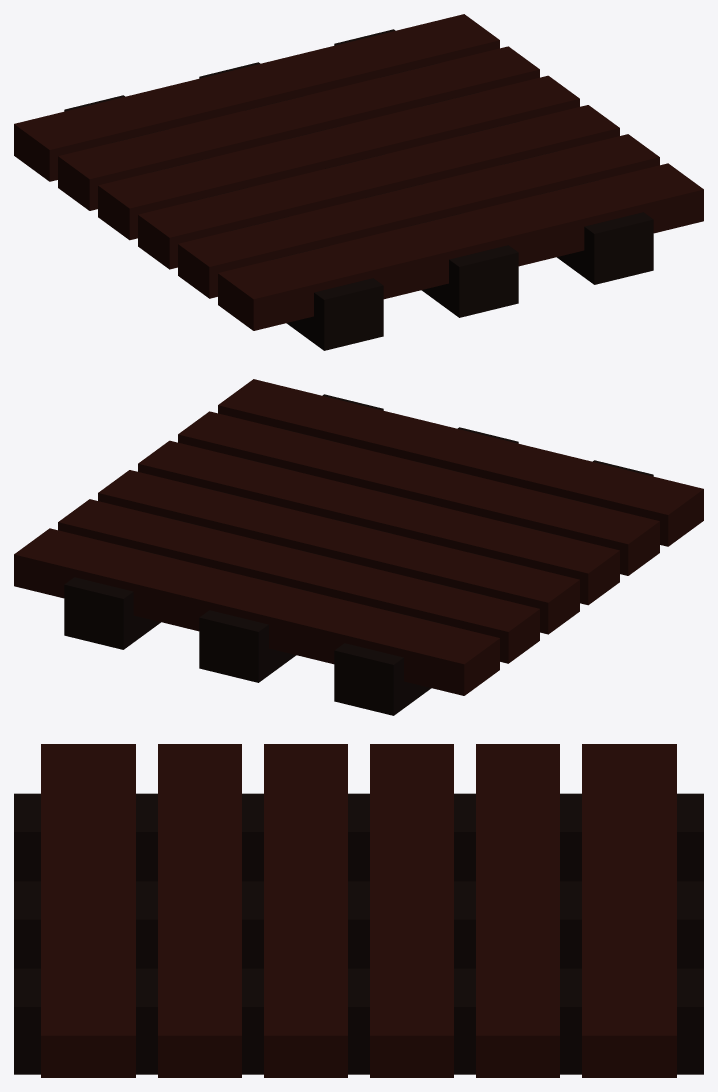
File: plataforma_pequeña.fbx
3 views of the same model, one above another, from view 1: azimuth 30°, elevation 25°; view 2: azimuth 150°, elevation 25°; view 3: azimuth 270°, elevation 25° (orthographic). The views are drawn at different scales.
Visible parts, largest first — view 1: plataforma_pequeña; view 2: plataforma_pequeña; view 3: plataforma_pequeña.
Part boxes in pixels (x1,y1,x2,y2): plataforma_pequeña: [14, 14, 703, 350]; plataforma_pequeña: [14, 379, 703, 715]; plataforma_pequeña: [14, 744, 703, 1077].
Size of the model in its own units: 400 by 50 by 400.
